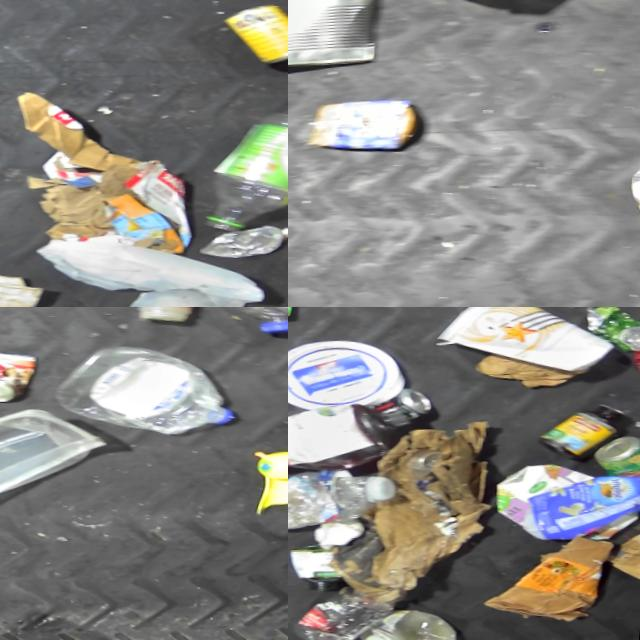can: (306, 93, 429, 158), (288, 0, 383, 78), (221, 0, 288, 62), (202, 213, 288, 256), (0, 340, 46, 406), (373, 382, 438, 421), (584, 307, 640, 349), (595, 424, 640, 474)
milk_jug: (36, 218, 277, 307)
non_white_jug: (288, 392, 400, 475), (524, 462, 640, 539)
plastic_bottle: (57, 332, 247, 442), (201, 99, 288, 230), (288, 458, 407, 538), (299, 580, 405, 640)
